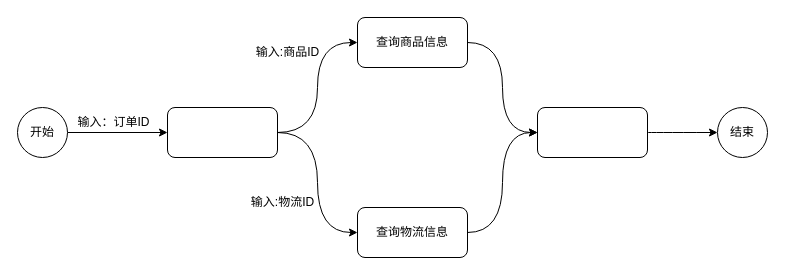
This 785x275 diagram has some shape labels left out. The centre of each missing label's shape, as x and y in pixels:
"数据汇总" belongs at (x=592, y=132).
"查询订单信息" belongs at (x=222, y=132).
